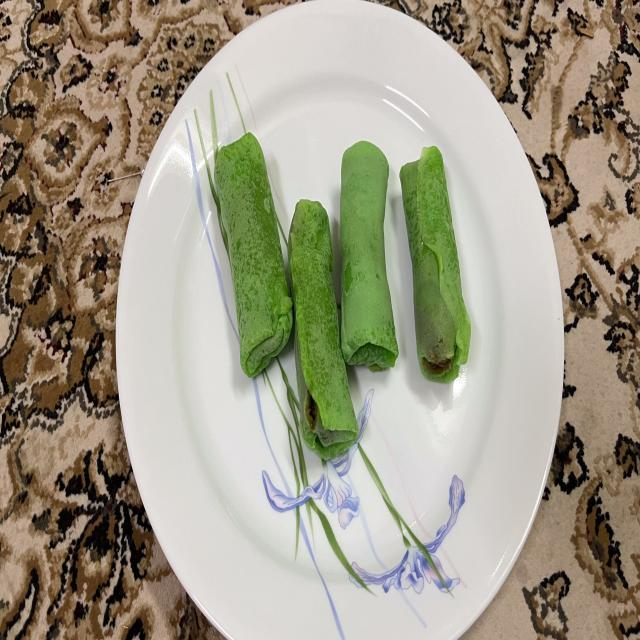Kuih-Ketayap: (214, 133, 292, 378), (289, 200, 358, 460), (400, 147, 471, 382), (340, 140, 399, 371)
